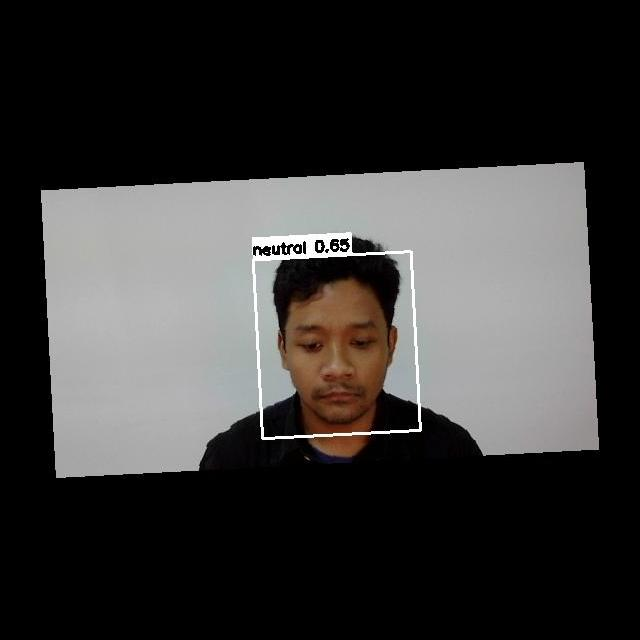Natural: (280, 309, 396, 415)
